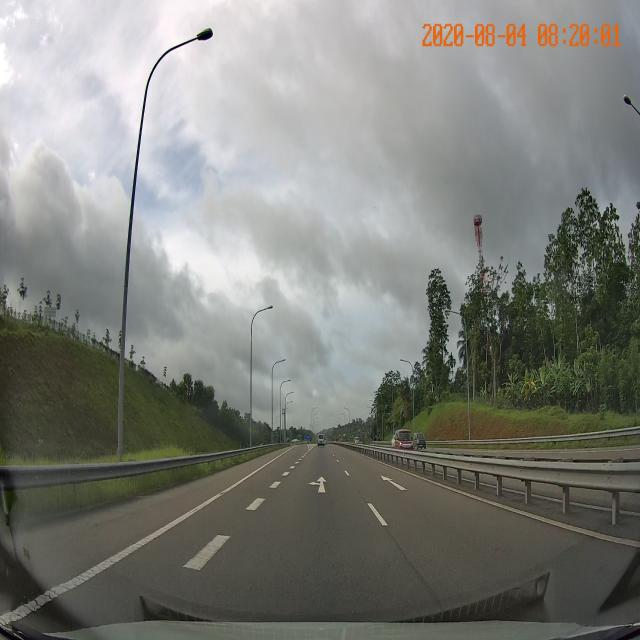Strelka vpered: (378, 474, 409, 491)
Strelka vpered - vlevo: (307, 475, 328, 494)
